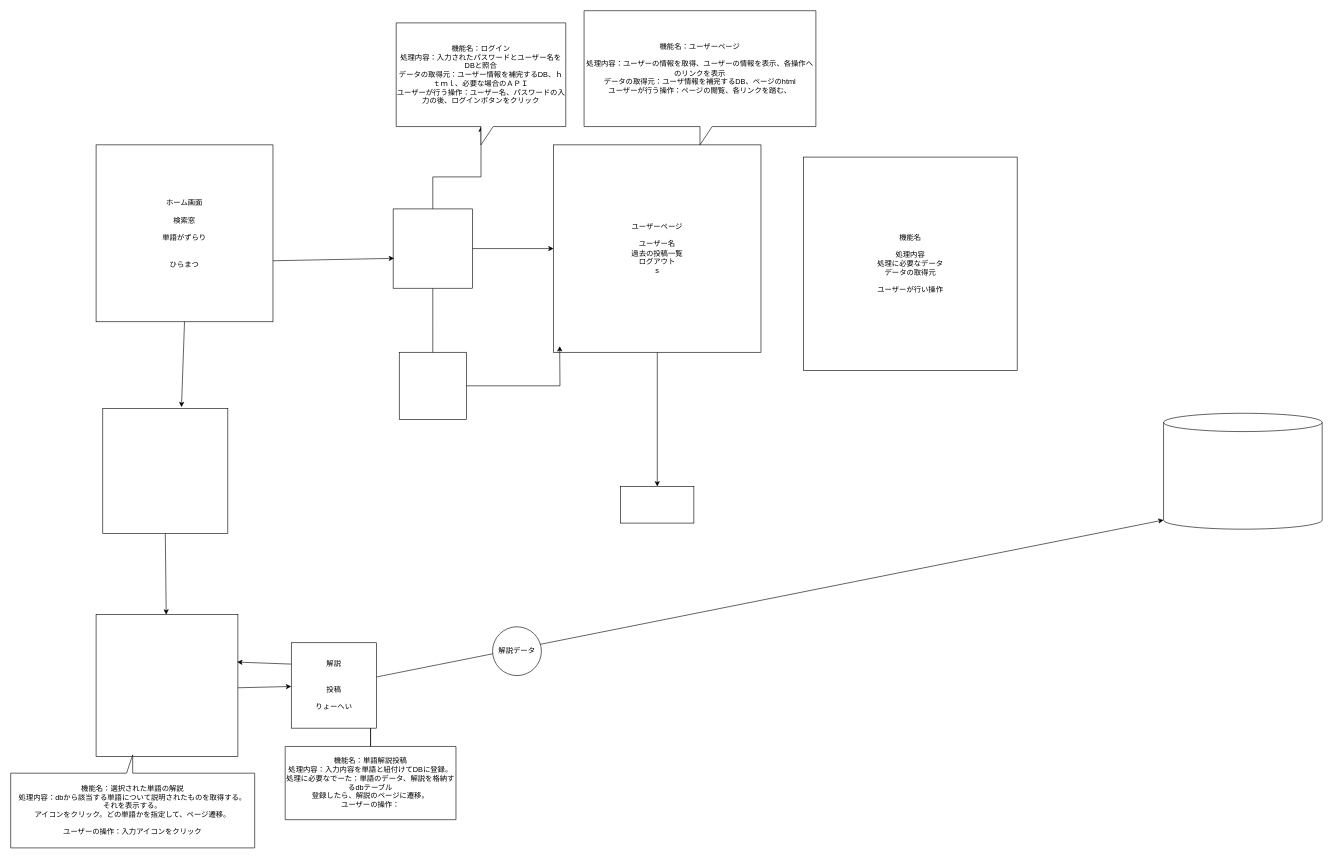
The diagram is 1333 pixels wide and 859 high, and some of its shapes have lost their labels. Here are the shapes that lost their labels. From the top down, the box of each, then its label:
(393, 208, 472, 288): ログイン パスワード ユーザー名 ひろみ
(399, 352, 466, 419): 登録画面 名前 パスワード e-mail twitter,google API
(102, 408, 228, 533): 単語 解説 解説 解説 ひらまつ
(620, 486, 694, 523): ログインした状態
(95, 614, 238, 756): 単語の解説 書き込むアイコン りょーへい
